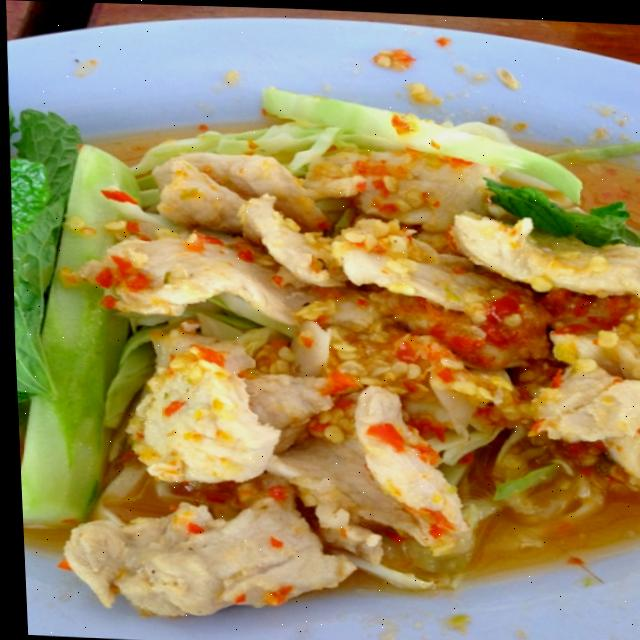猪肉菜式: (3, 9, 640, 640)
